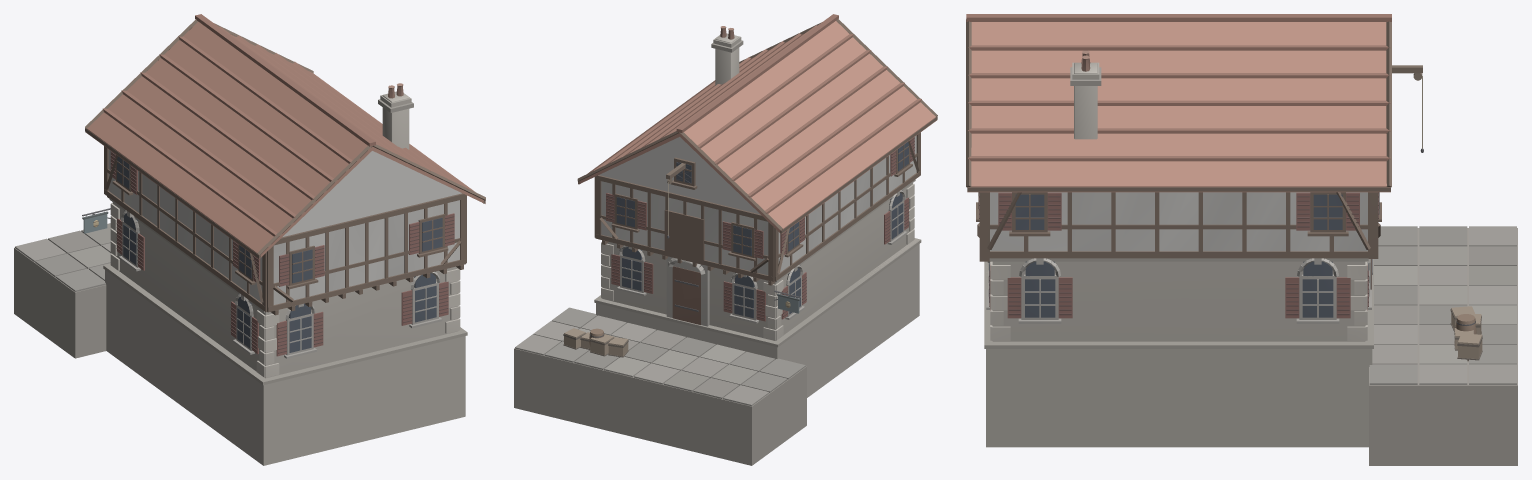
File: storage_3.gltf
The picture shows the model from 3 angles, left to right: view 1: azimuth 30°, elevation 25°; view 2: azimuth 150°, elevation 25°; view 3: azimuth 270°, elevation 25°; orthographic projection. The views are drawn at different scales.
Parts seen in each view (by area): view 1: Body; view 2: Body; view 3: Body.
Part boxes in pixels (box(x1,y1,x2,y2)): Body: box(14, 14, 485, 465); Body: box(514, 14, 937, 465); Body: box(966, 14, 1517, 465).
Bounding box in the file's own units: 11 × 12.22 × 16.28.
